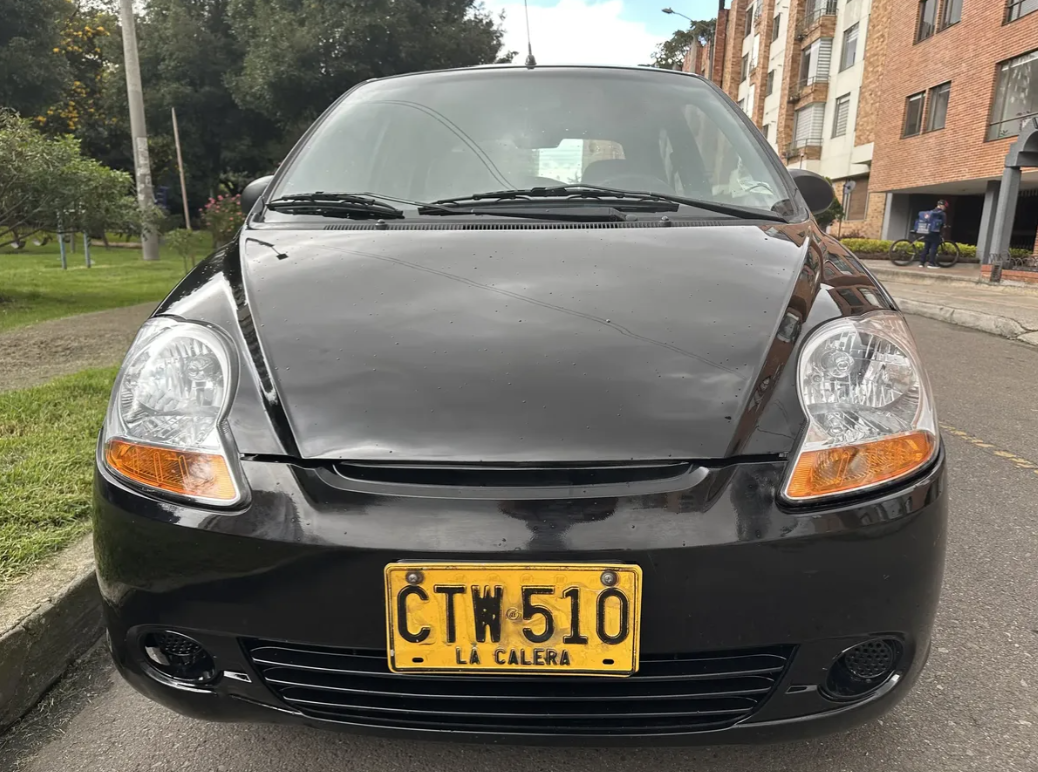placa: (383, 560, 640, 675)
